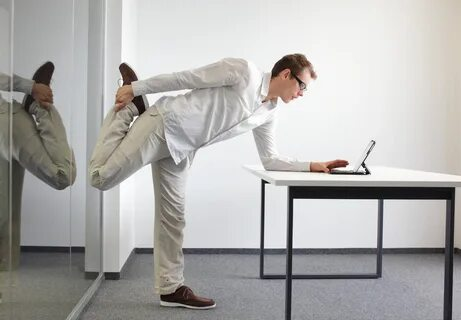awake: (87, 53, 320, 310)
